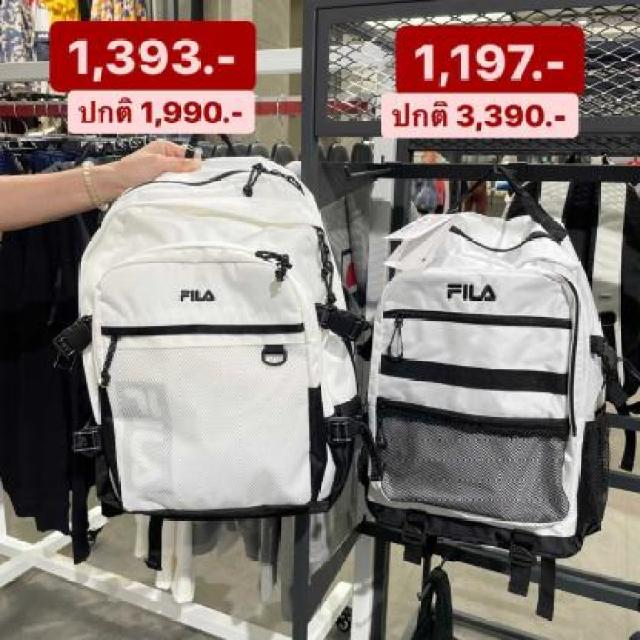Bag: (54, 150, 389, 548), (348, 182, 630, 586)
